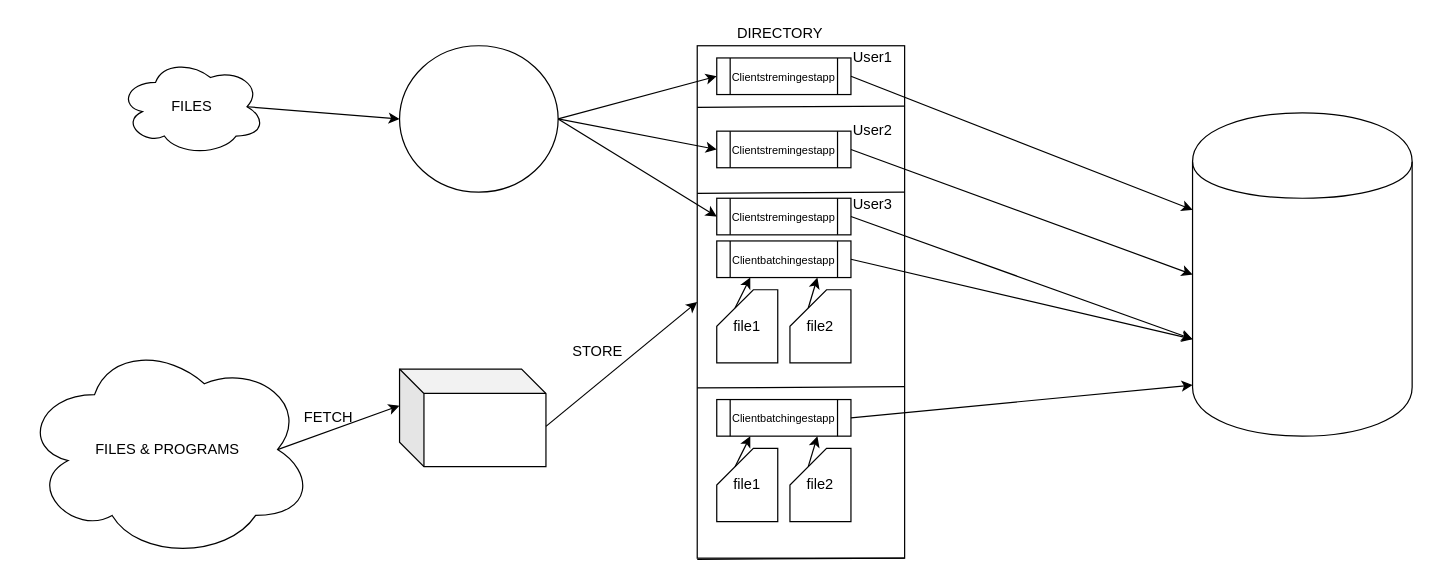
Some shapes in this 1434 by 582 pixel diagram are drawn without their labels. Each missing label, with the centre of its shape:
"coredms" goes at (x=1301, y=274).
"RabbitMQ" goes at (x=478, y=118).
"REST API" goes at (x=472, y=417).
